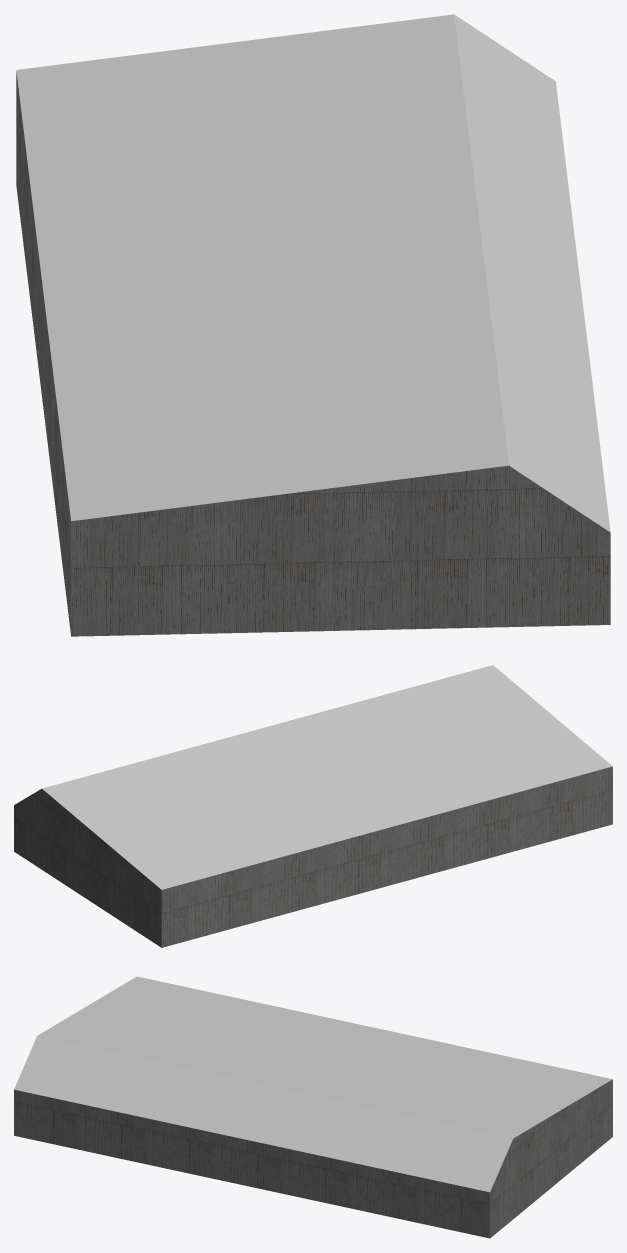
The model's file is hangarMaarch2.gltf.
3 renders of one model, top to bottom at view 1: azimuth 30°, elevation 25°; view 2: azimuth 150°, elevation 25°; view 3: azimuth 270°, elevation 25°, orthographic. The views are drawn at different scales.
Visible parts, largest first — view 1: node1, node2; view 2: node1, node2; view 3: node1, node2.
Part boxes in pixels (box(x1,y1,x2,y2)): node1: box(16, 14, 610, 532); node2: box(16, 72, 610, 636); node1: box(42, 665, 612, 889); node2: box(14, 766, 612, 947); node1: box(14, 976, 612, 1192); node2: box(14, 1079, 612, 1238).
Size of the model in its own units: 38 by 7 by 47.06.
